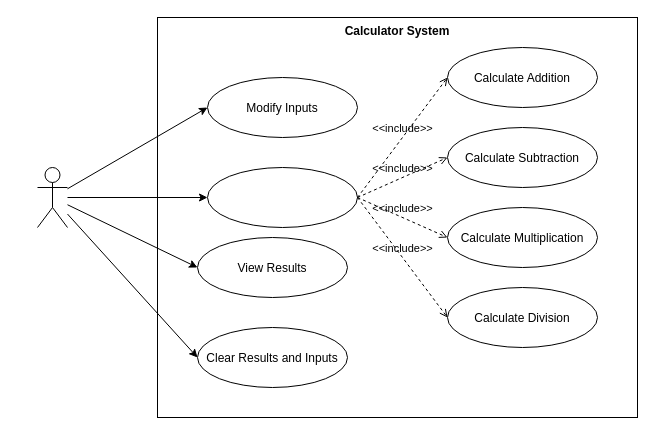
Image size: 655x435. Some labels were removed from this diagram. Here are the shapes that lost their labels. From the top down, the centre of each, then its label:
point 52,197: User (Anonymous)
point 282,197: Calculate Operation
